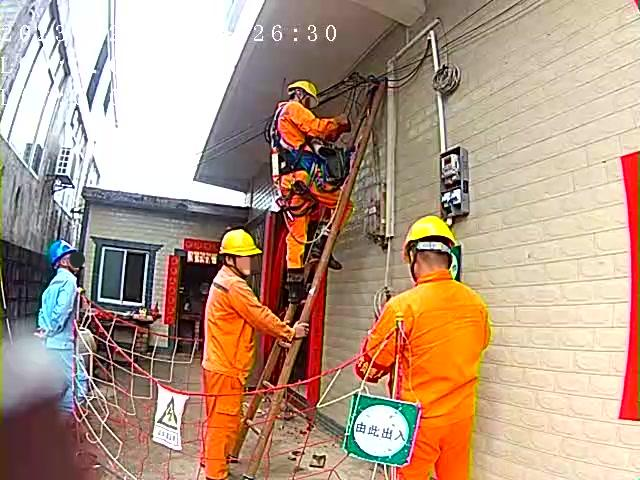halt: (405, 219, 463, 282), (219, 232, 265, 278), (50, 244, 83, 275), (289, 82, 322, 112)
inear: (405, 245, 423, 275), (224, 255, 244, 275)
